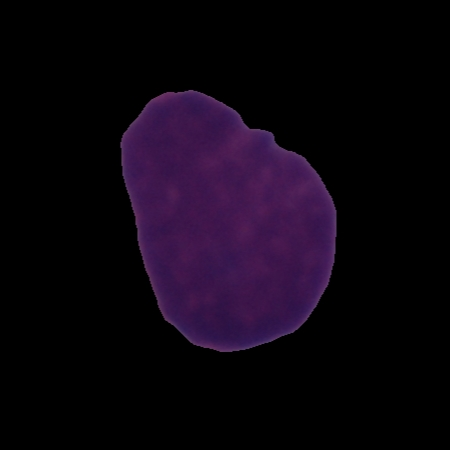ALL: (116, 86, 343, 357)
